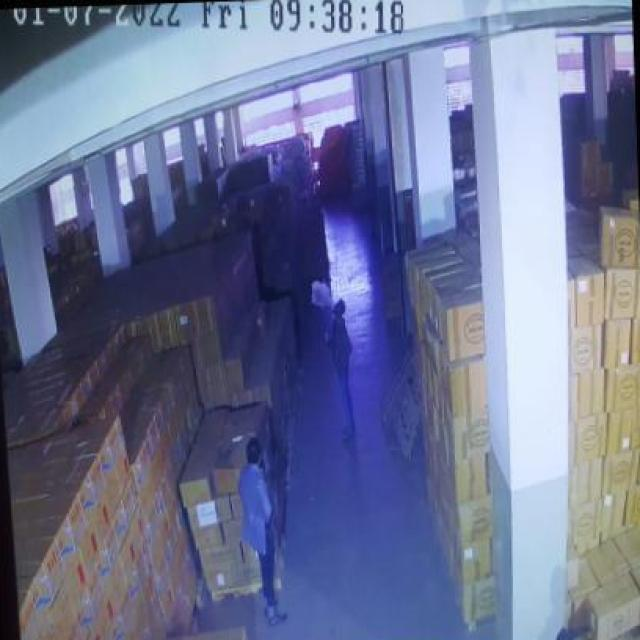fire: (310, 278, 333, 312)
